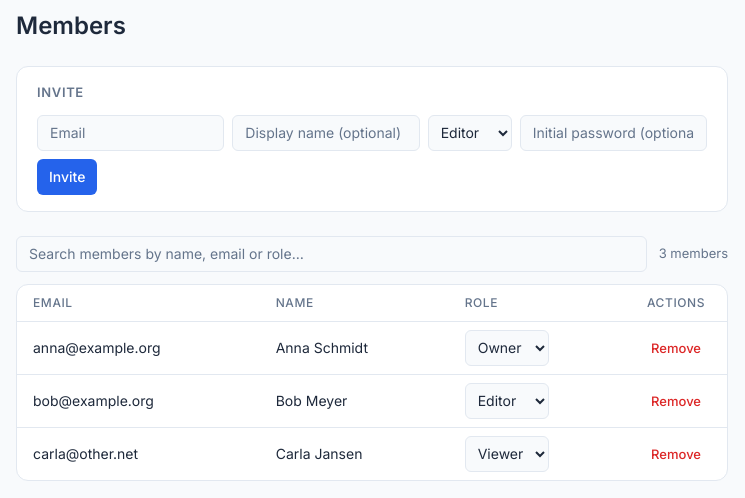
Test: MembersPage search › narrows the table as you type and shows the match count
This screenshot has width=745, height=498.
Expected: the text with test id "members-count" reads "3 members", [659,245,728,261]
Step 1. Type "bob" into the search field with test id "members-search" → (331, 254), box [16,236,647,272]
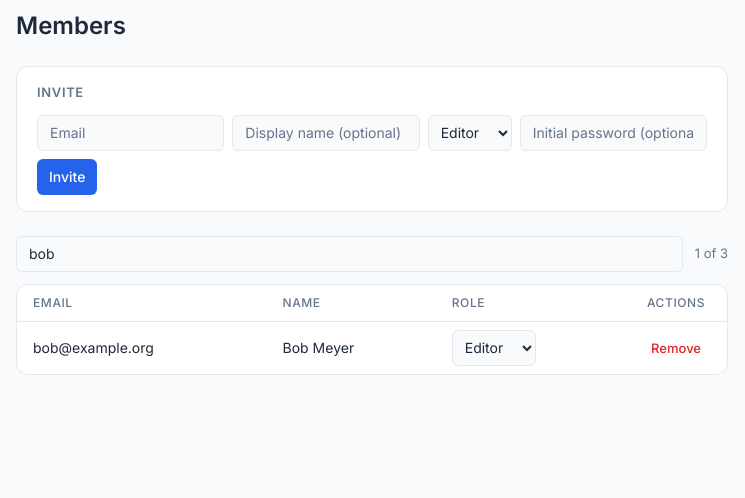
Result: the row with test id "member-u1" is gone
Result: the row with test id "member-u3" is gone
Result: the text with test id "members-count" reads "1 of 3" at [695,245,728,261]
